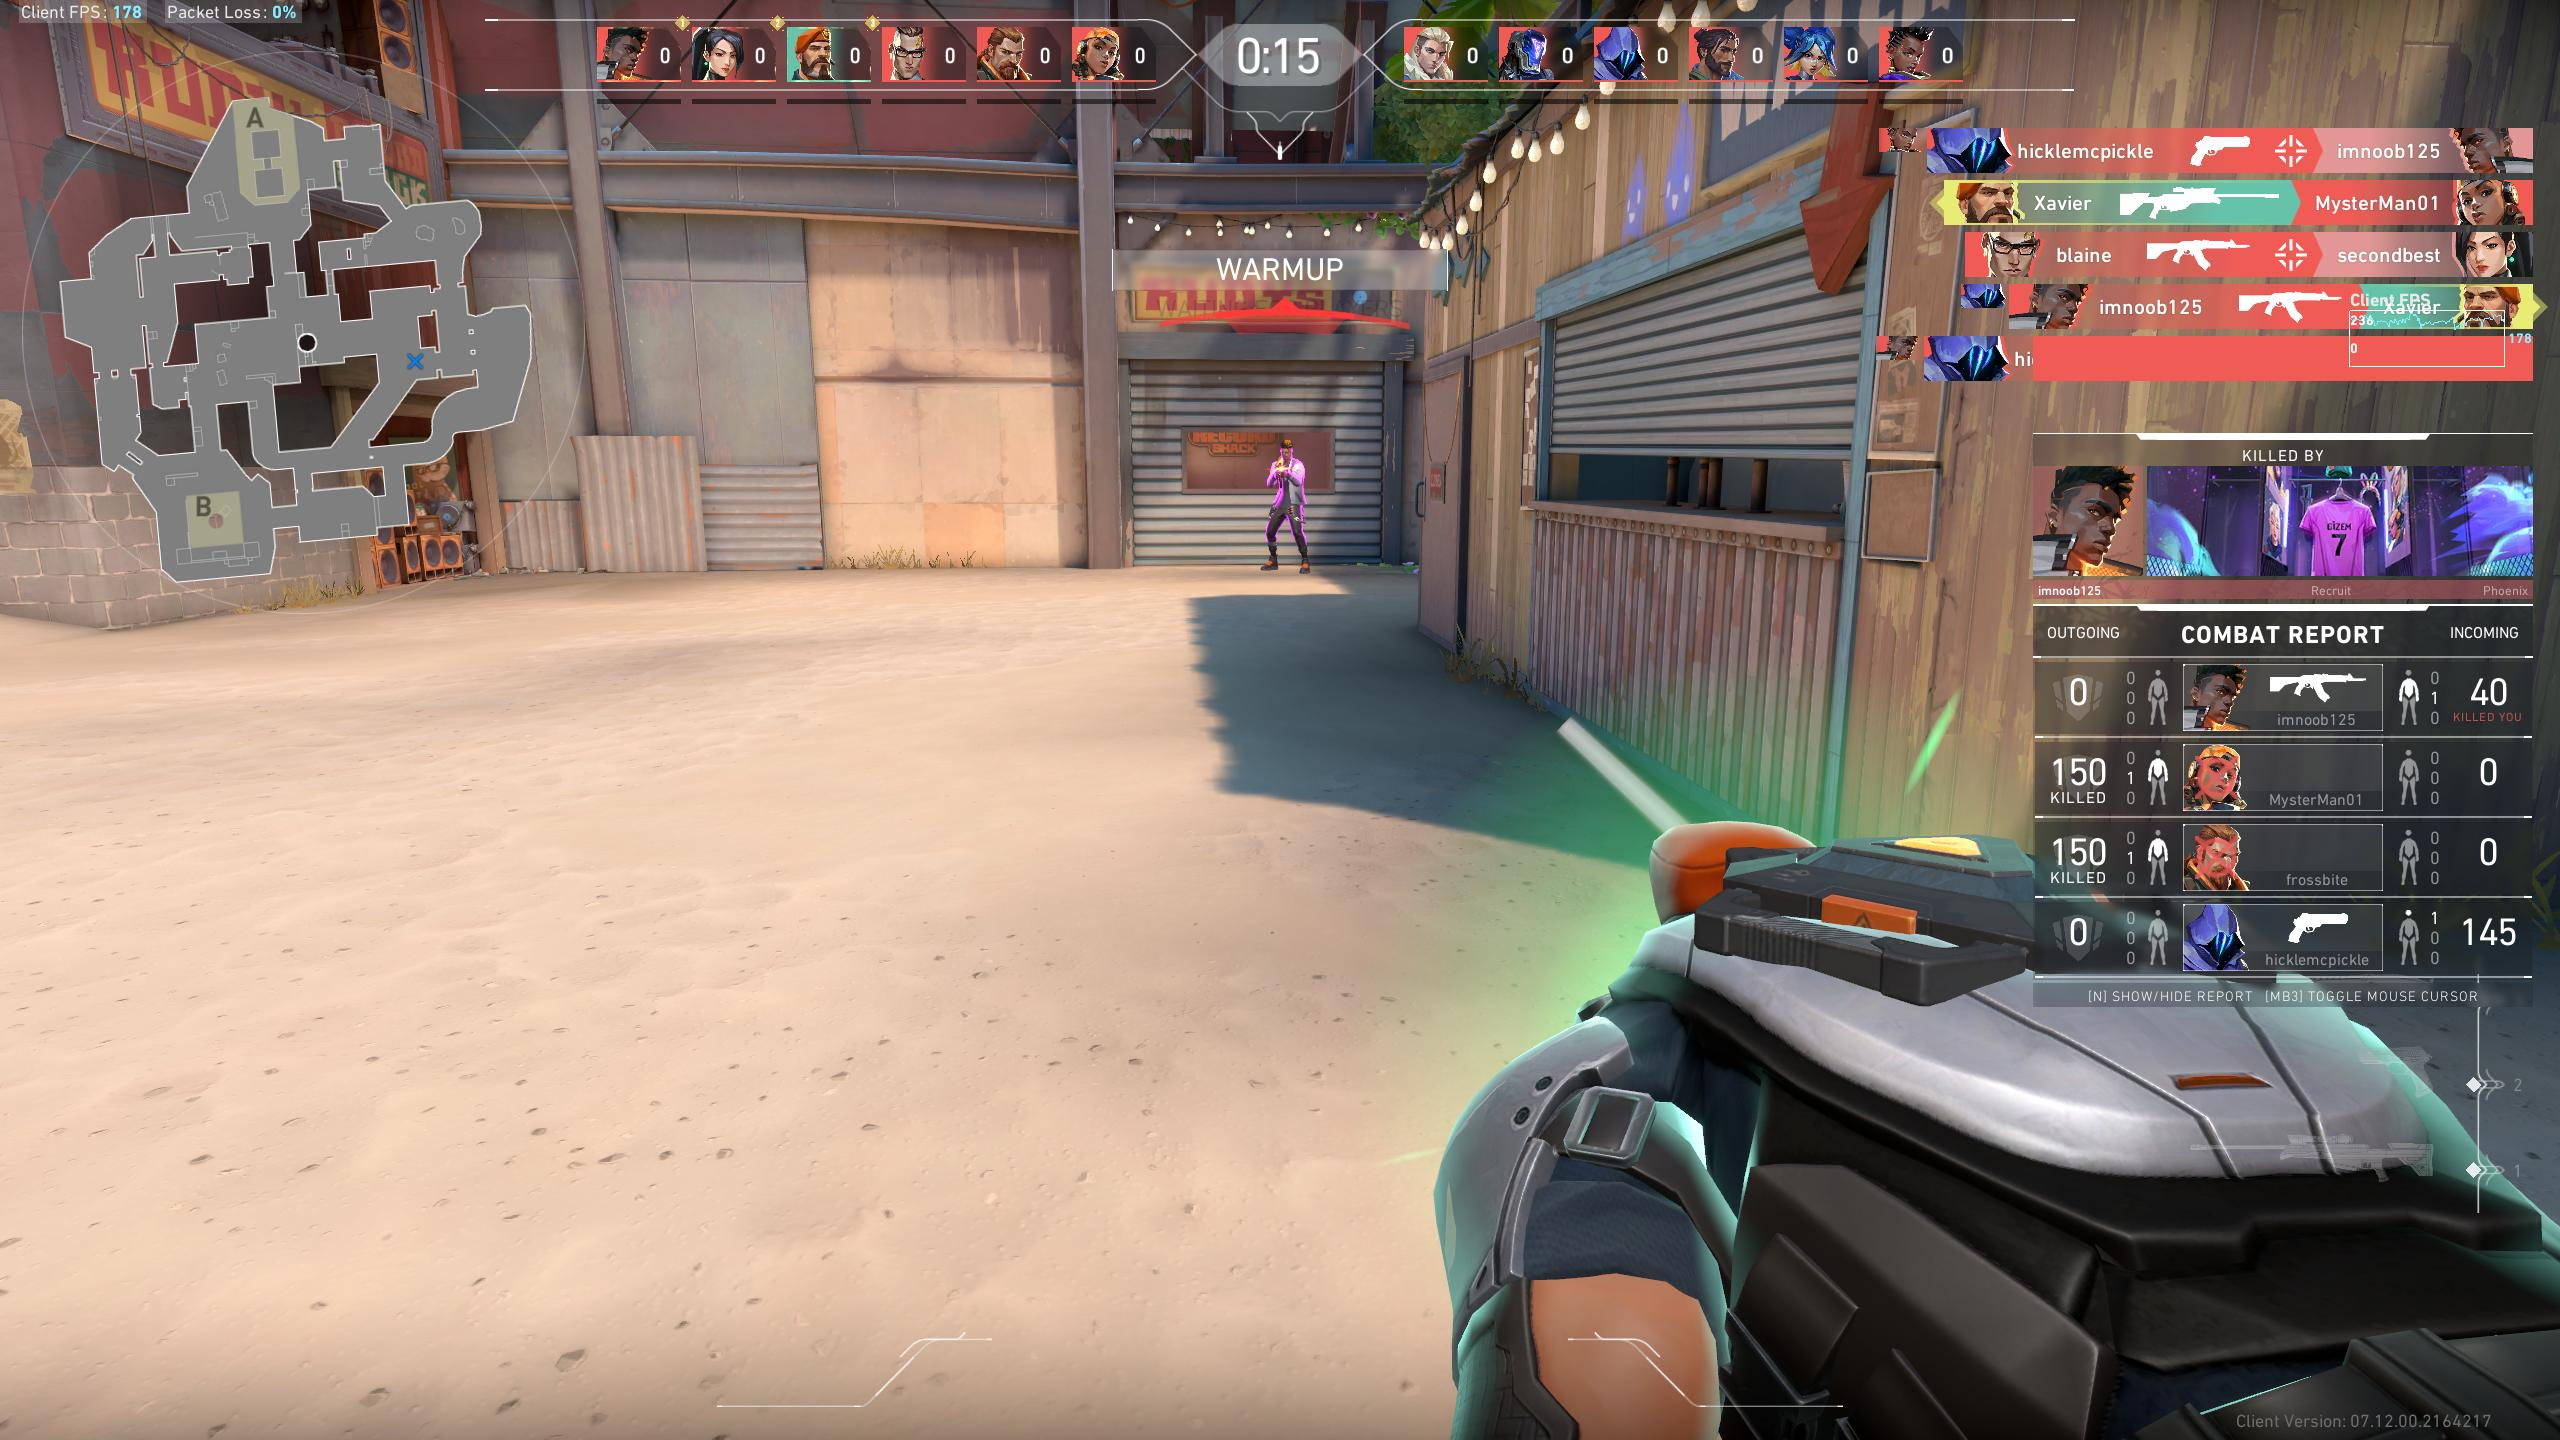enemyBody: (1271, 464, 1310, 513)
enemyHead: (1282, 436, 1292, 461)
